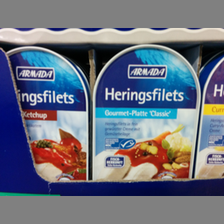fish: (93, 45, 200, 181), (6, 46, 91, 180)
